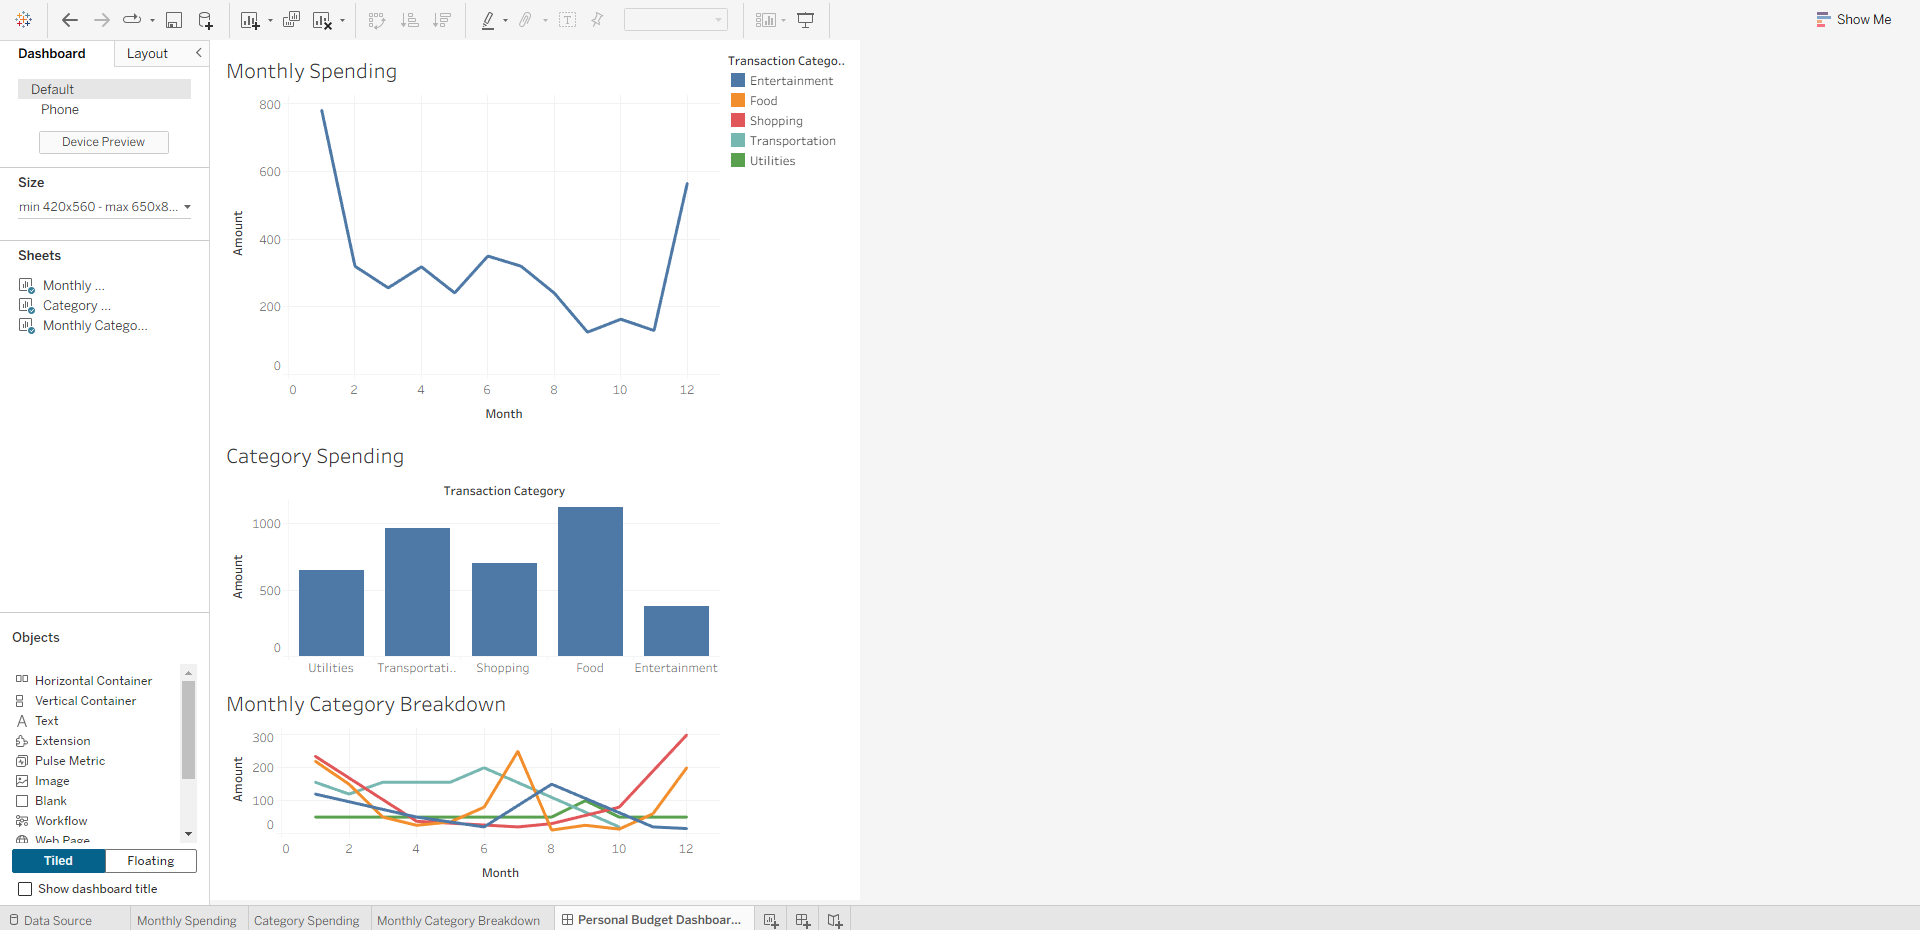

This screenshot's page, from the dashboard's own definition file:
{"tool":"tableau","page":{"name":"Personal Budget Dashboard (Excel → SQL → Tableau)","canvas":[650,860],"ordinal":0},"visuals":[{"type":"worksheet","title":"Monthly Spending","mark":"Line","rows":["Amount"],"cols":["Month"],"box":[8,8,506,385]},{"type":"legend","title":"Monthly Category Breakdown","param":"[federated.0turxo60eh6h2e15nxkpk1610wgh].[none:TransactionCategory:nk]","box":[514,8,128,126]},{"type":"worksheet","title":"Category Spending","mark":"Bar","rows":["Amount"],"cols":["TransactionCategory"],"box":[8,393,506,248]},{"type":"worksheet","title":"Monthly Category Breakdown","mark":"Automatic","rows":["Amount"],"cols":["Month"],"box":[8,641,506,211]}]}

Visuals, with their boxes on the page's 650x860 design canvas (x1, y1, x2, y2). These are canvas units, not pixel positions in the 1920x930 screenshot, which may show the page scaled, cropped or inside an application window:
"Monthly Spending" worksheet (Line marks): BBox(8, 8, 514, 393)
"Monthly Category Breakdown" legend: BBox(514, 8, 642, 134)
"Category Spending" worksheet (Bar marks): BBox(8, 393, 514, 641)
"Monthly Category Breakdown" worksheet: BBox(8, 641, 514, 852)
